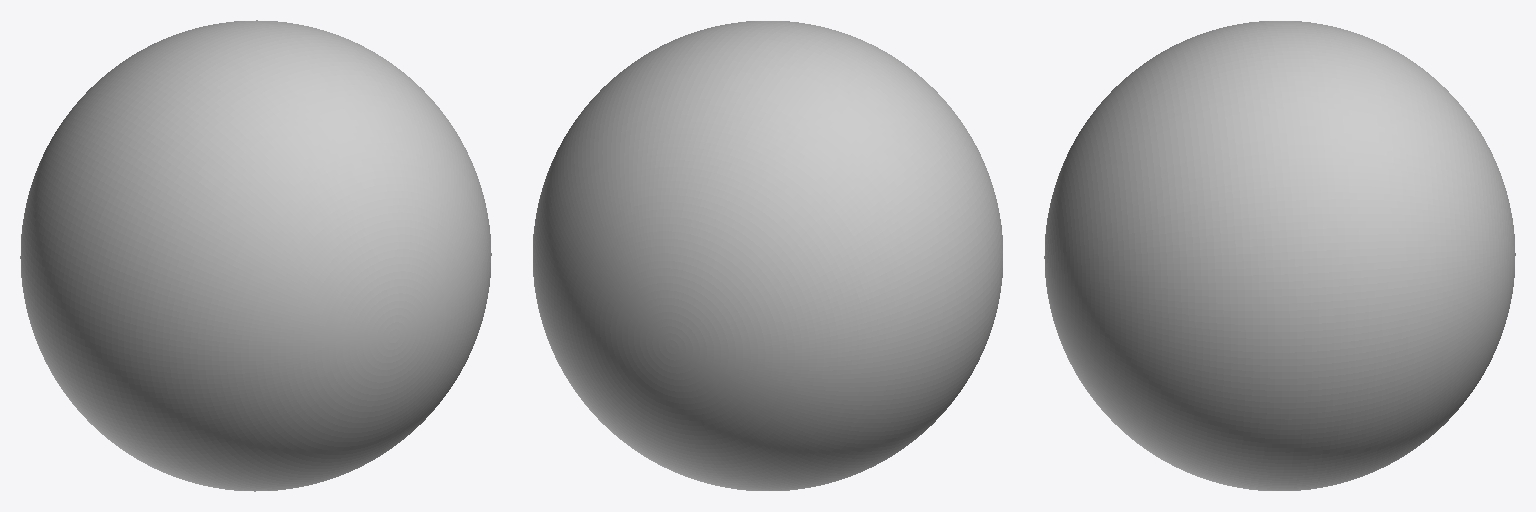
File: moon.obj
3 views of the same model, side by side, from view 1: azimuth 30°, elevation 25°; view 2: azimuth 150°, elevation 25°; view 3: azimuth 270°, elevation 25° (orthographic).
Visible parts, largest first — view 1: Sphere001; view 2: Sphere001; view 3: Sphere001.
Boxes of the visible parts, box(x1,y1,x2,y2) form: Sphere001: box(20, 20, 491, 491); Sphere001: box(533, 21, 1002, 490); Sphere001: box(1044, 21, 1515, 490).
Bounding box in the file's own units: 7.44 × 7.44 × 7.44.